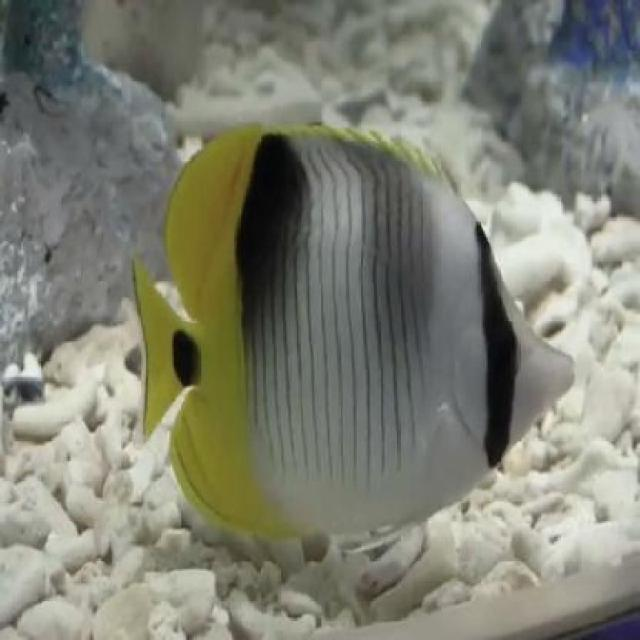ButterflyFish: (130, 115, 571, 534)
